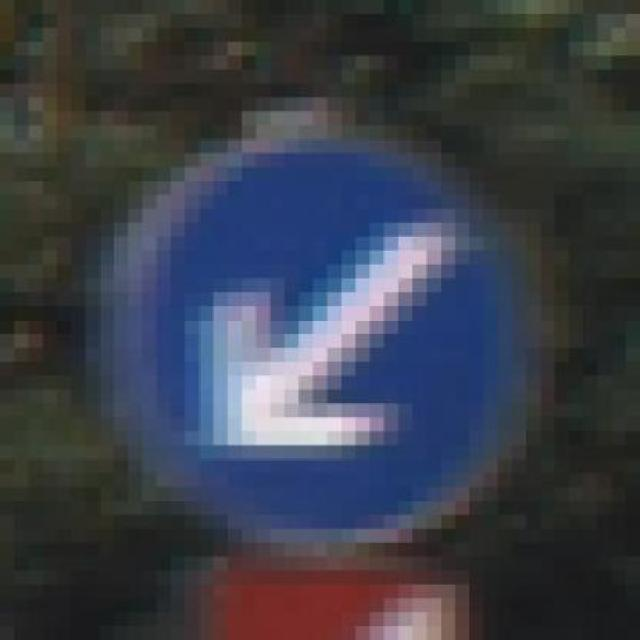Keep-Left: (86, 97, 554, 557)
